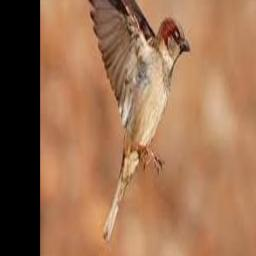Sparrow: (84, 0, 191, 240)
